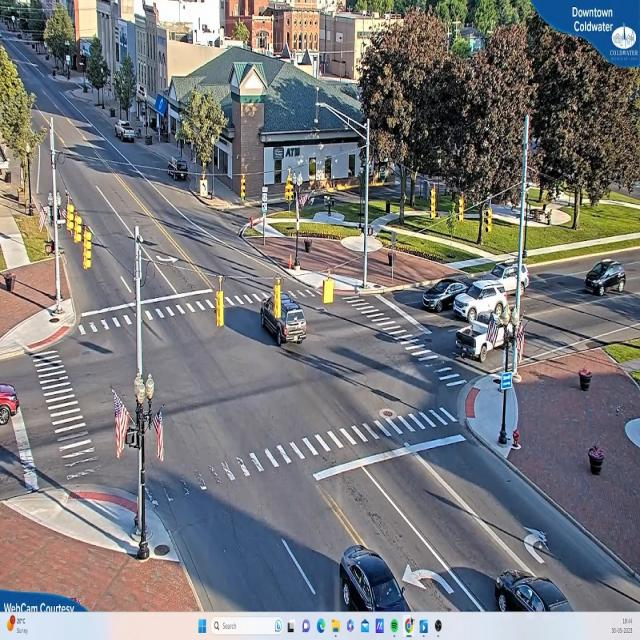car: (340, 547, 410, 612), (261, 290, 308, 348), (454, 287, 510, 325), (515, 578, 570, 614), (481, 264, 531, 298), (421, 280, 471, 312), (585, 260, 626, 298), (1, 384, 22, 422), (118, 121, 138, 142)
